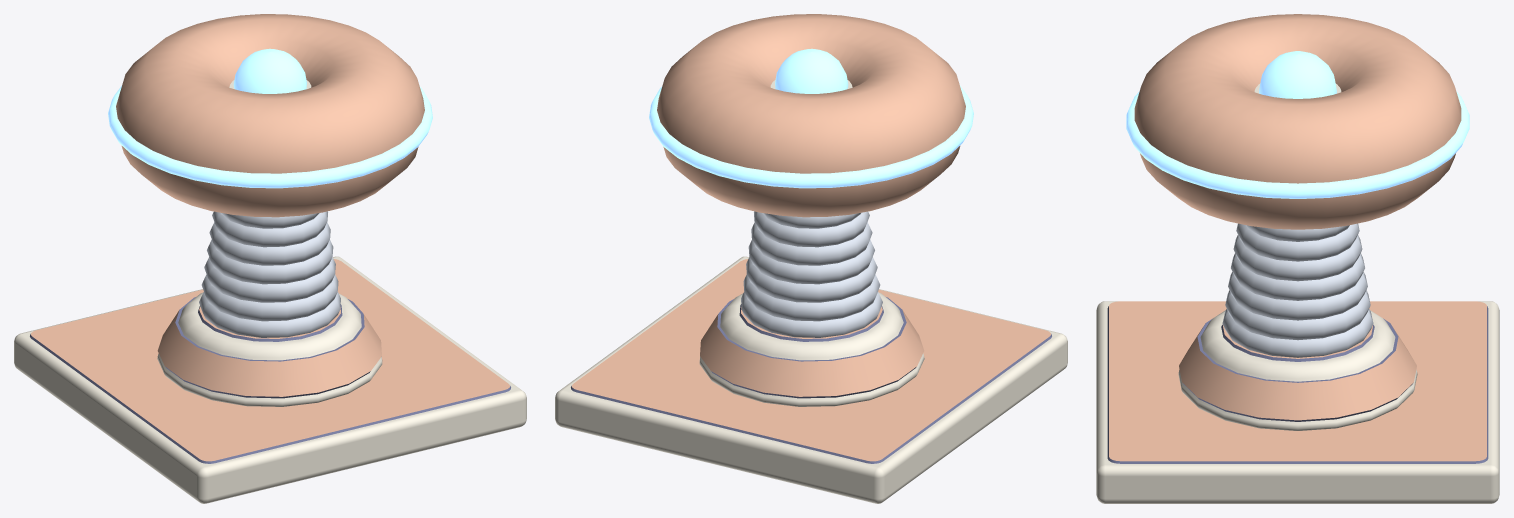
The model's file is R4X_AreaEMP.fbx.
The picture shows the model from 3 angles, left to right: view 1: azimuth 30°, elevation 25°; view 2: azimuth 150°, elevation 25°; view 3: azimuth 270°, elevation 25°; orthographic projection. The views are drawn at different scales.
Parts seen in each view (by area): view 1: R4X_AreaEMP_Body; view 2: R4X_AreaEMP_Body; view 3: R4X_AreaEMP_Body.
Part boxes in pixels (x1,y1,x2,y2): R4X_AreaEMP_Body: (14,14,526,503); R4X_AreaEMP_Body: (555,14,1067,503); R4X_AreaEMP_Body: (1096,14,1499,503).
Size of the model in its own units: 0.514 by 0.52 by 0.514.
